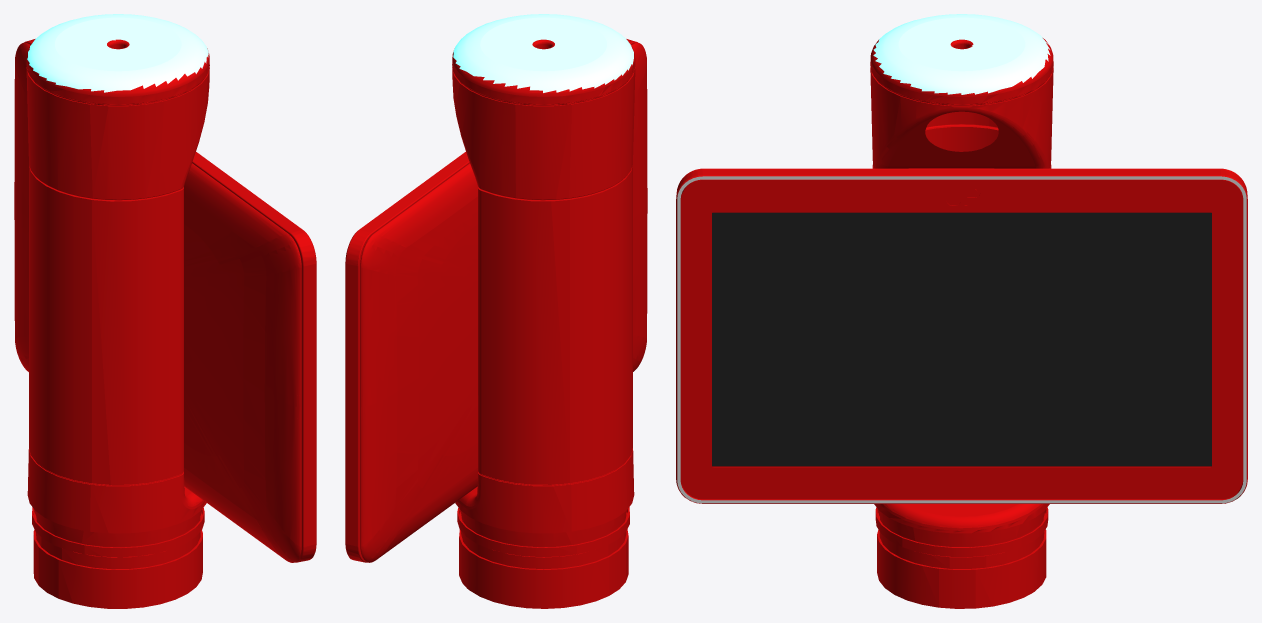
The model's file is sawyer3.glb.
3 views of the same model, side by side, from view 1: azimuth 30°, elevation 25°; view 2: azimuth 150°, elevation 25°; view 3: azimuth 270°, elevation 25° (orthographic).
Visible parts, largest first — view 1: link2_1; view 2: link2_1; view 3: link2_1.
Part boxes in pixels (x1,y1,x2,y2): link2_1: (14, 14, 316, 608); link2_1: (345, 14, 647, 608); link2_1: (676, 14, 1247, 608).
Size of the model in its own units: 0.0819 by 0.2612 by 0.256.
